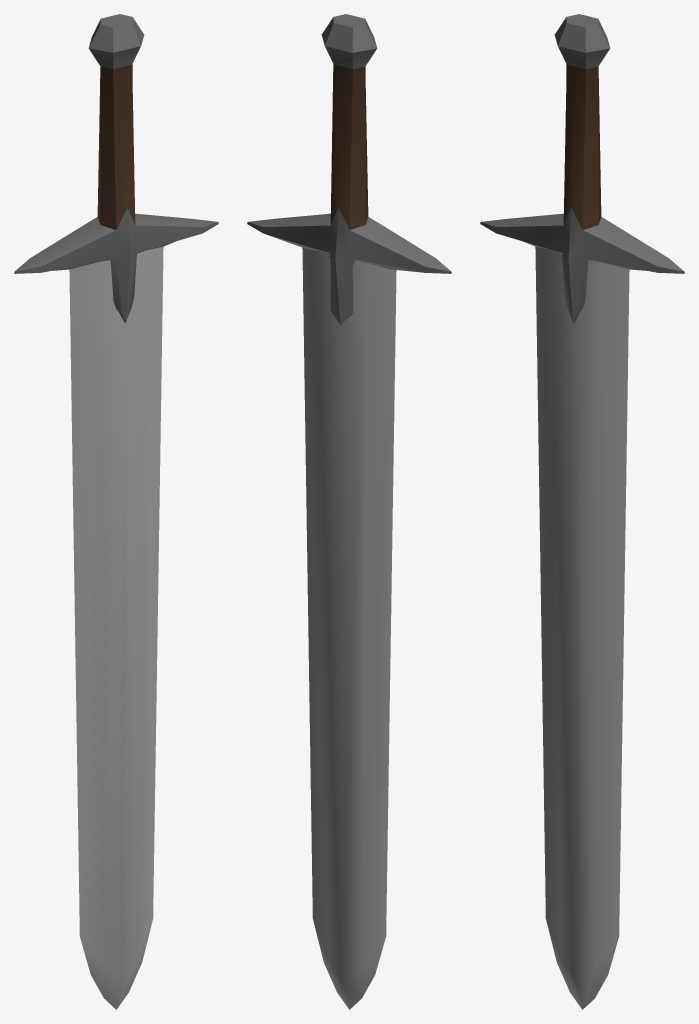
File: Schwert.fbx
The picture shows the model from 3 angles, left to right: view 1: azimuth 30°, elevation 25°; view 2: azimuth 150°, elevation 25°; view 3: azimuth 330°, elevation 25°; orthographic projection.
Parts seen in each view (by area): view 1: Schwertschneide; view 2: Schwertschneide; view 3: Schwertschneide.
Part boxes in pixels (left/top/right/bottom): Schwertschneide: left=14, top=14, right=218, bottom=1009; Schwertschneide: left=247, top=14, right=451, bottom=1009; Schwertschneide: left=480, top=14, right=684, bottom=1009.
Size of the model in its own units: 81.39 by 376 by 19.42.
